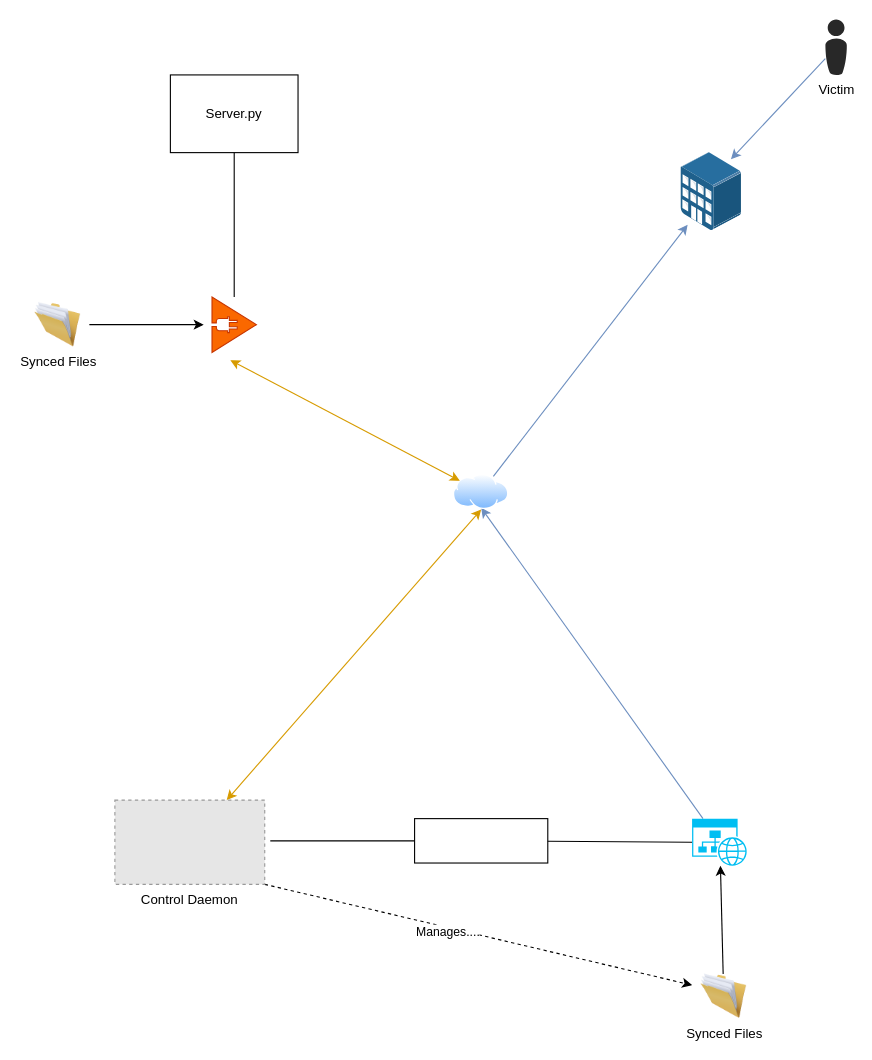
This 872x1060 diagram has some shape labels left out. Grey dashed boxes stand in for pictures. Here are the shapes that lost their labels. From the top down, the centre of each, then its label:
the point at 233,324: FileHost Plugin
the point at 480,840: External FIleHost Plugin
the point at 719,841: Flask Instance
